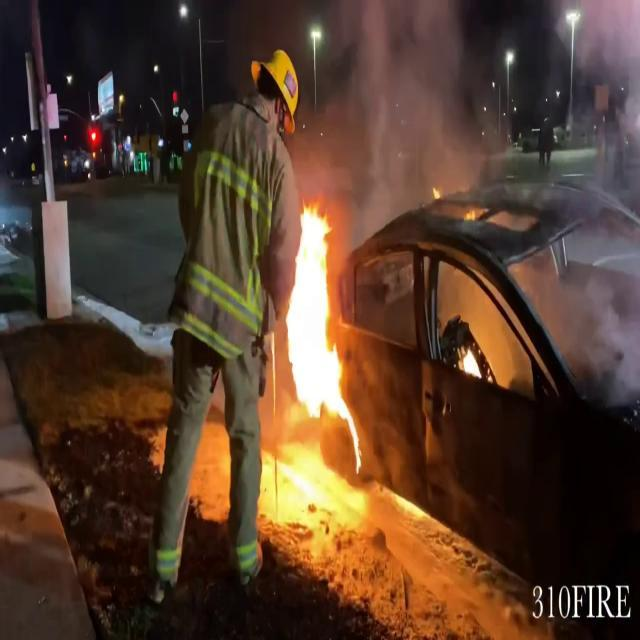Fire: (280, 199, 362, 468)
Smoke: (314, 0, 496, 219)
